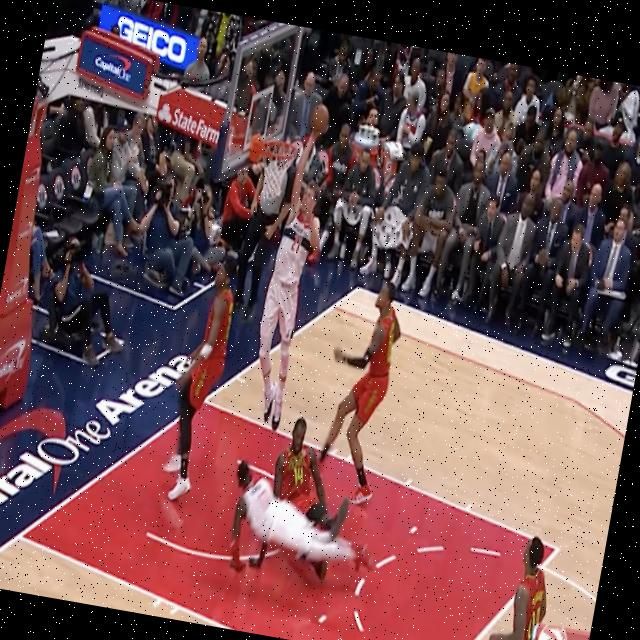foul: (204, 386, 414, 609)
